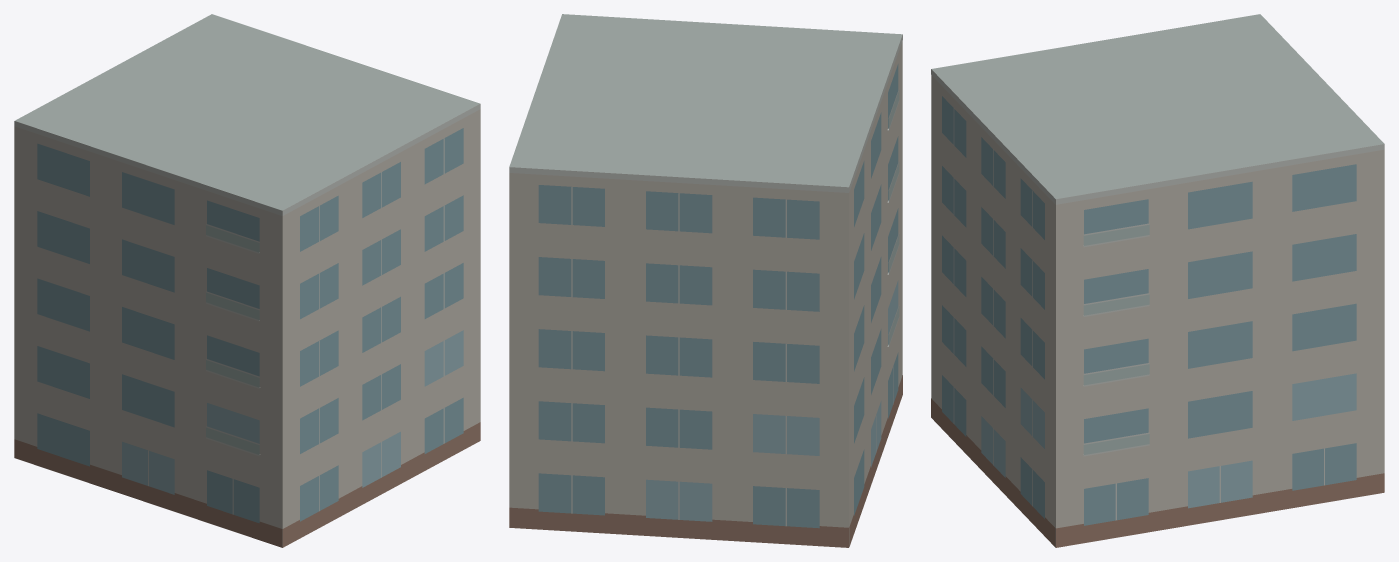
Rendered from survey-upis-32593203.glb.
3 renders of one model, left to right at view 1: azimuth 30°, elevation 25°; view 2: azimuth 150°, elevation 25°; view 3: azimuth 270°, elevation 25°, orthographic. The views are drawn at different scales.
Visible parts, largest first — view 1: survey-upis-32593203.tmp; view 2: survey-upis-32593203.tmp; view 3: survey-upis-32593203.tmp.
Boxes of the visible parts, box(x1,y1,x2,y2) form: survey-upis-32593203.tmp: box(14, 14, 480, 547); survey-upis-32593203.tmp: box(509, 14, 902, 547); survey-upis-32593203.tmp: box(931, 14, 1384, 547).
Size of the model in its own units: 17.33 by 15.2 by 17.93.
